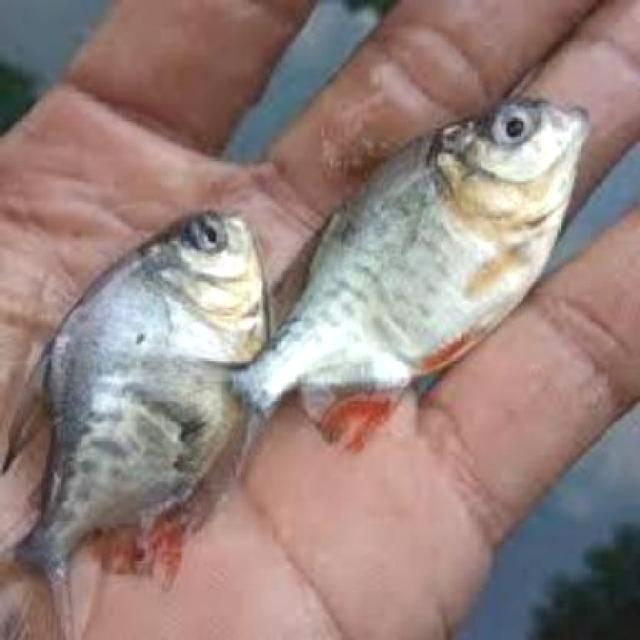ikan-pacu: (266, 87, 588, 418), (0, 204, 271, 596)
